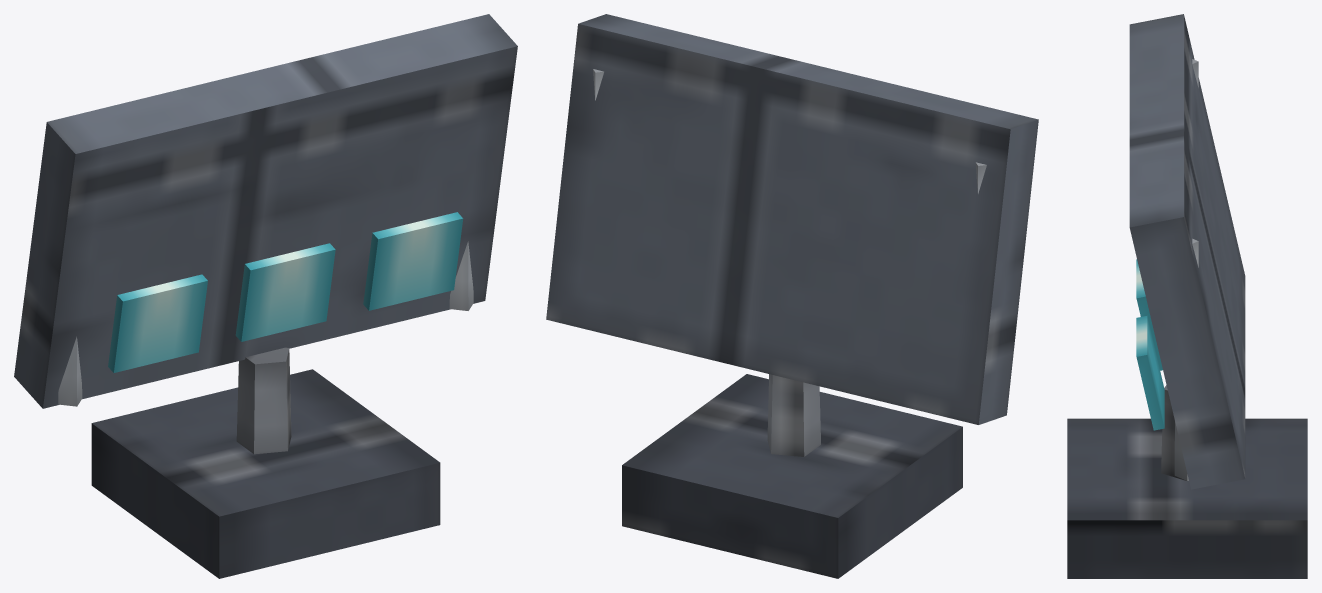
File: ship_phased_array.obj
3 views of the same model, side by side, from view 1: azimuth 30°, elevation 25°; view 2: azimuth 150°, elevation 25°; view 3: azimuth 270°, elevation 25° (orthographic). The views are drawn at different scales.
Visible parts, largest first — view 1: slab, base, emitters, post, cooling; view 2: slab, base, post; view 3: slab, base, emitters, post, cooling.
Boxes of the visible parts, <box> form: slab: <box>14,14,517,408</box>; base: <box>91,369,440,578</box>; emitters: <box>108,212,463,372</box>; post: <box>236,347,291,454</box>; cooling: <box>58,241,473,406</box>; slab: <box>546,14,1038,424</box>; base: <box>622,374,962,578</box>; post: <box>767,374,820,456</box>; slab: <box>1129,14,1245,489</box>; base: <box>1067,418,1307,578</box>; emitters: <box>1136,259,1164,430</box>; post: <box>1161,385,1188,481</box>; cooling: <box>1174,59,1198,480</box>.
Size of the model in its own units: 1.04 by 0.9855 by 0.52.
Materials: 5 (5 with a texture image).
